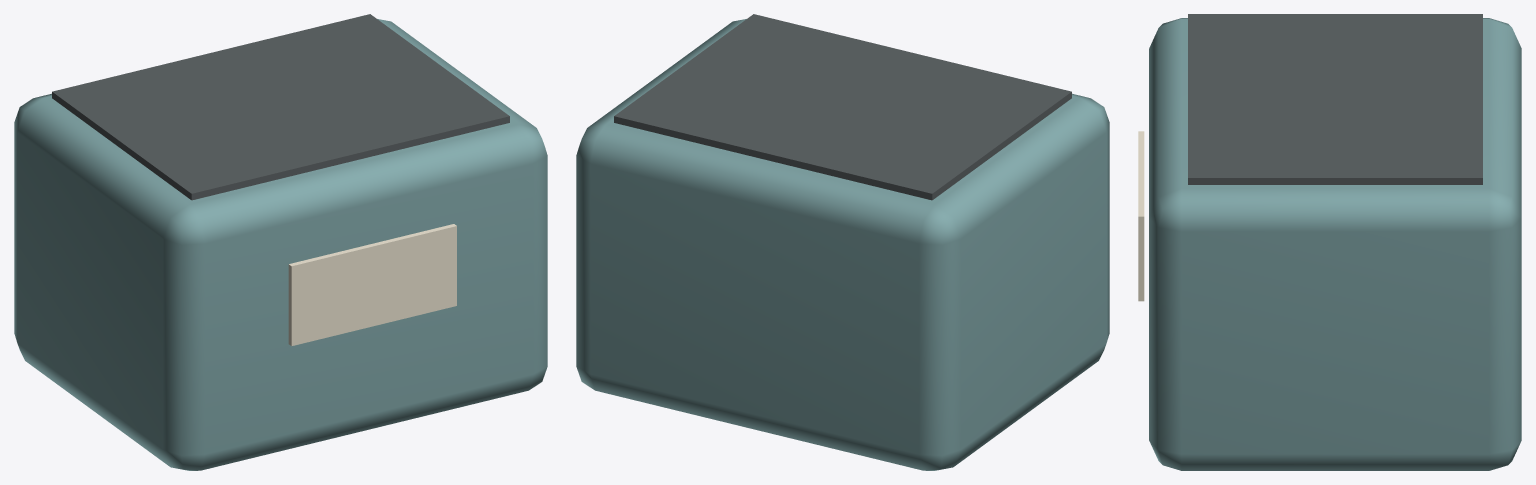
The model's file is Equipment_StorageBin.fbx.
3 renders of one model, left to right at view 1: azimuth 30°, elevation 25°; view 2: azimuth 150°, elevation 25°; view 3: azimuth 270°, elevation 25°, orthographic. The views are drawn at different scales.
Visible parts, largest first — view 1: G12_bin lower hull, G12_open black interior, G12_front label; view 2: G12_bin lower hull, G12_open black interior; view 3: G12_bin lower hull, G12_open black interior, G12_front label.
Boxes of the visible parts, <box> form: G12_bin lower hull: <box>14,19,547,470</box>; G12_open black interior: <box>52,14,509,200</box>; G12_front label: <box>288,224,456,346</box>; G12_bin lower hull: <box>576,19,1109,470</box>; G12_open black interior: <box>614,14,1071,200</box>; G12_bin lower hull: <box>1149,18,1521,470</box>; G12_open black interior: <box>1188,14,1482,184</box>; G12_front label: <box>1138,131,1144,301</box>.
Size of the model in its own units: 0.2821 by 0.1932 by 0.2322.
